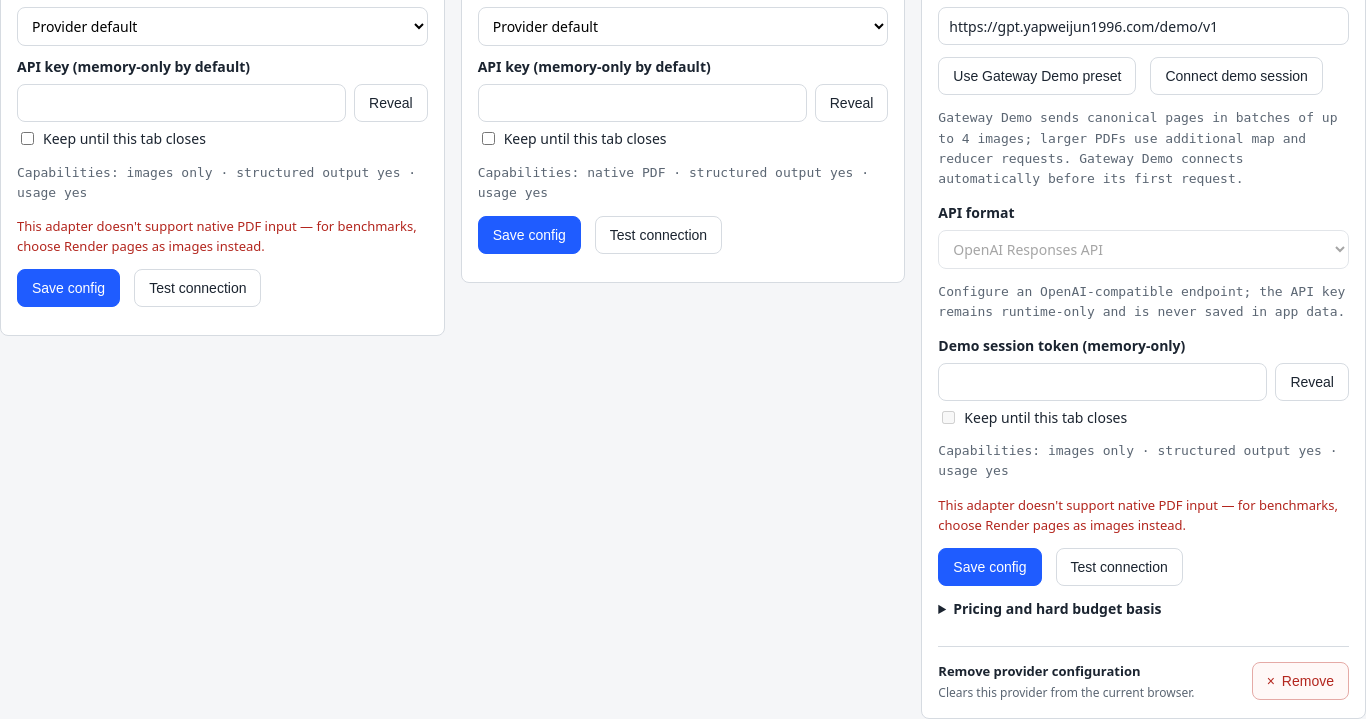
Test case: ProvidersPage › automatically connects Gateway Demo when testing without a session
(page scrolled)
Click the button "Test connection" below "Demo session token (memory-only)" at (1119, 567), box x1=1056 y1=548 x2=1183 y2=586
(page scrolled)
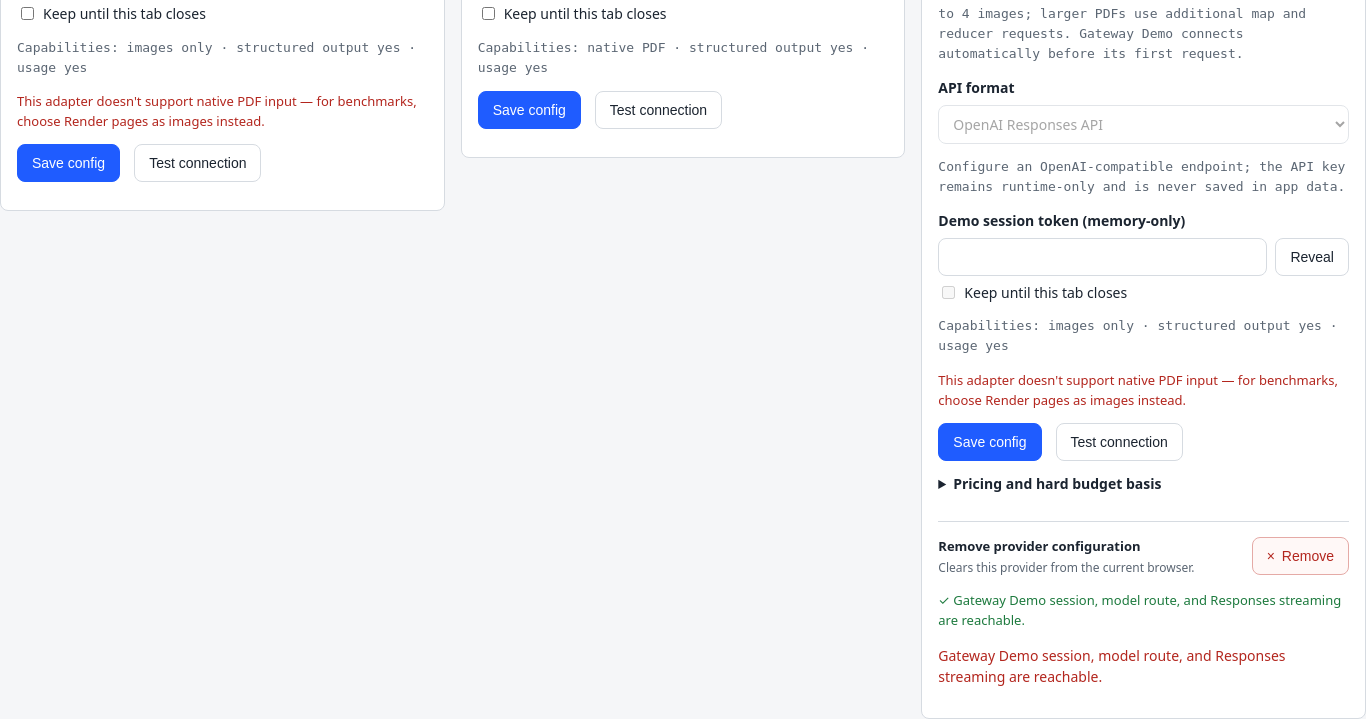
Check: the text "✓ Gateway Demo session, model route, and Responses streaming are reachable." is shown, box x1=938 y1=590 x2=1349 y2=631
